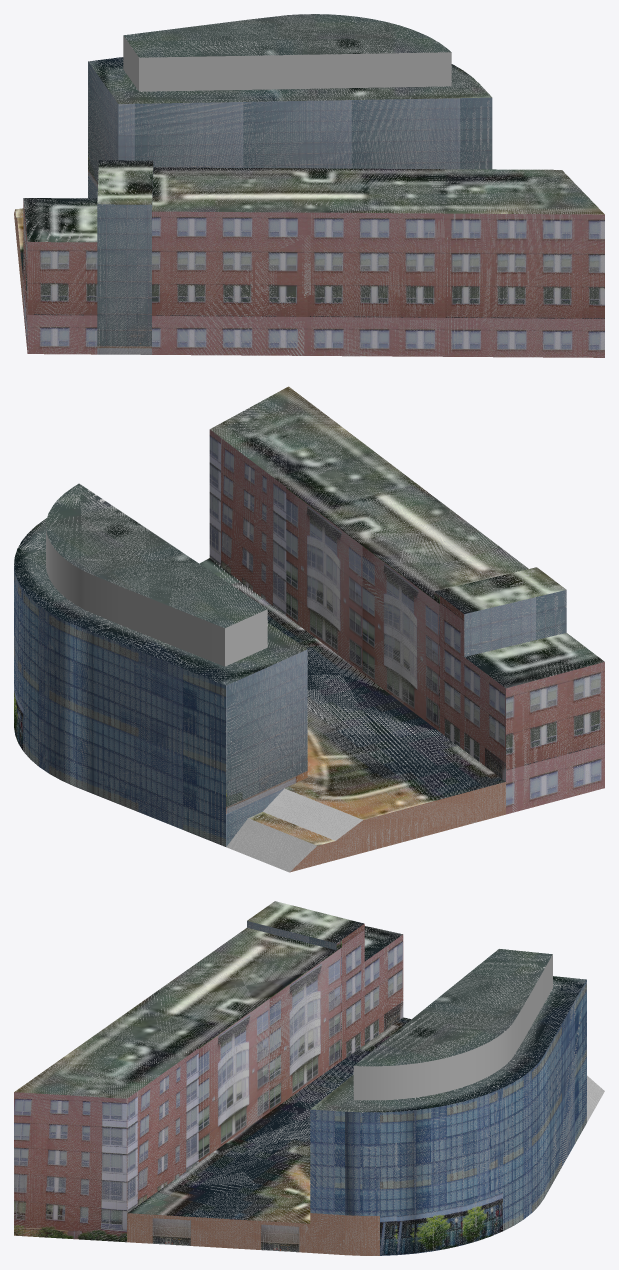
Rendered from berhakis.dae.
3 views of the same model, one above another, from view 1: azimuth 30°, elevation 25°; view 2: azimuth 150°, elevation 25°; view 3: azimuth 270°, elevation 25° (orthographic). The views are drawn at different scales.
Visible parts, largest first — view 1: group_0 (×11); view 2: group_0 (×17); view 3: group_0 (×20).
Part boxes in pixels (x1,y1,x2,y2): group_0 (×11): [23, 14, 604, 357]; group_0 (×17): [14, 386, 604, 872]; group_0 (×20): [14, 901, 586, 1255].
Bounding box in the file's own units: 3463 × 3763 × 1248.
